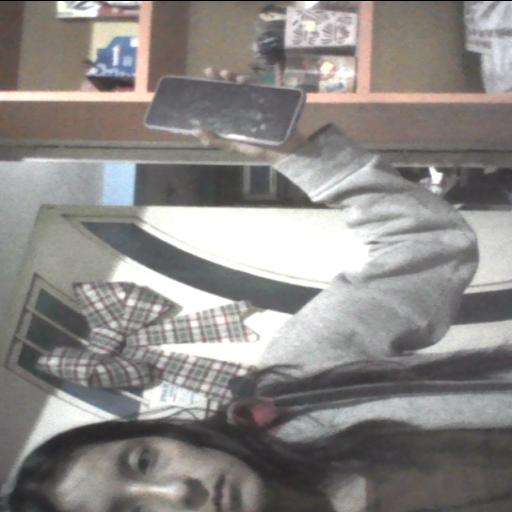phone: (138, 72, 310, 148)
